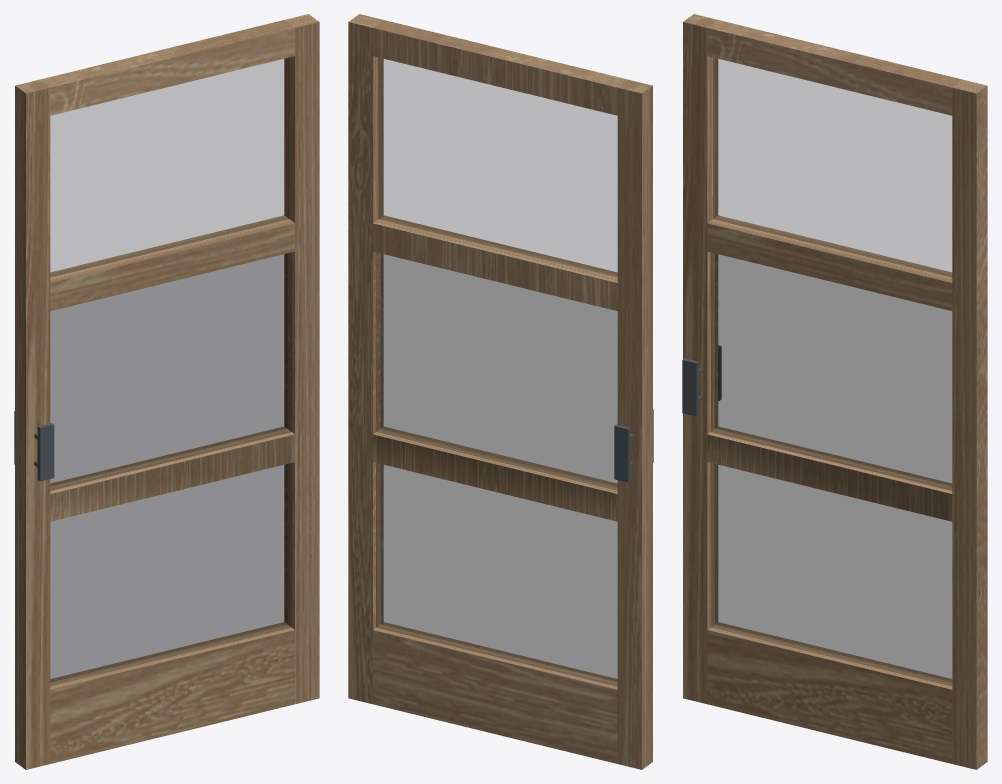
File: DoorsV4.glb
3 renders of one model, left to right at view 1: azimuth 30°, elevation 25°; view 2: azimuth 150°, elevation 25°; view 3: azimuth 330°, elevation 25°, orthographic.
Parts seen in each view (by area): view 1: FrontDoorL.002, KNOB.001; view 2: FrontDoorL.002, KNOB.003; view 3: FrontDoorL.002, KNOB.001.
Part boxes in pixels (x1,y1,x2,y2): FrontDoorL.002: (15, 14, 319, 769); KNOB.001: (34, 423, 54, 481); FrontDoorL.002: (348, 14, 652, 769); KNOB.003: (614, 424, 633, 482); FrontDoorL.002: (683, 14, 987, 769); KNOB.001: (682, 358, 702, 416).
Bounding box in the file's own units: 0.9699 × 2.14 × 0.1458.
3 materials, 2 textured.
